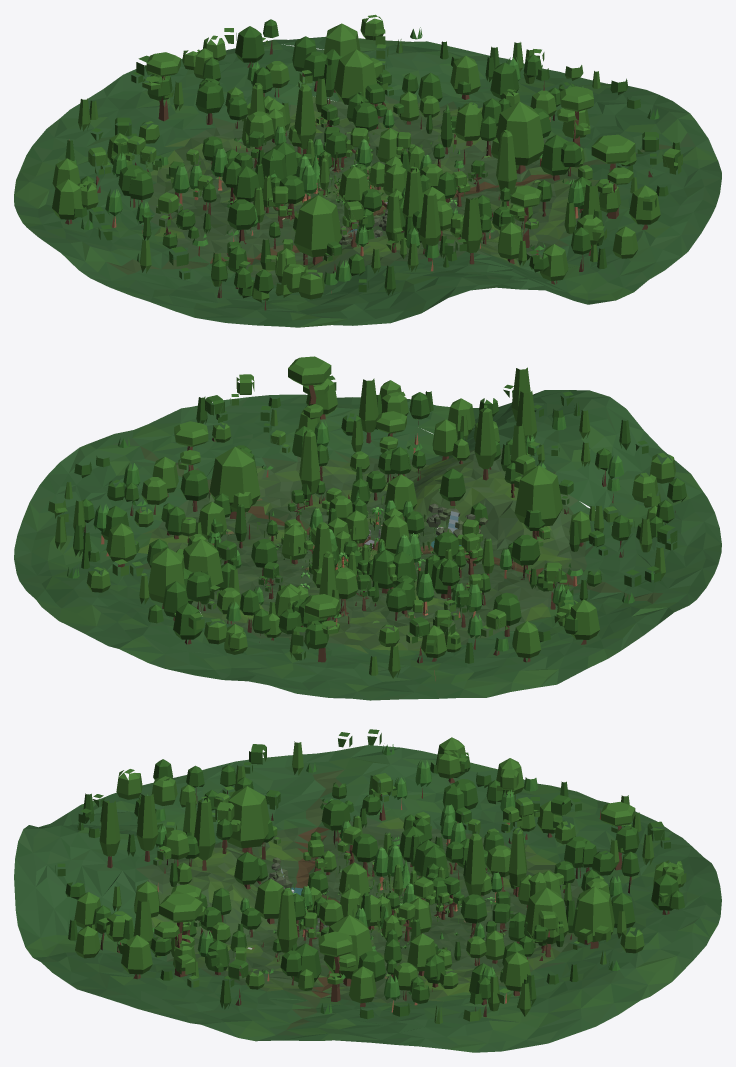
File: world_rainforest_lite.glb
The picture shows the model from 3 angles, top to bottom: view 1: azimuth 30°, elevation 25°; view 2: azimuth 150°, elevation 25°; view 3: azimuth 270°, elevation 25°; orthographic projection.
Visible parts, largest first — view 1: Sector7, Sector6, Sector0, Sector2, Sector1, Sector3, Sector5, Sector4; view 2: Sector1, Sector6, Sector0, Sector7, Sector3, Sector5, Sector4, Sector2; view 3: Sector2, Sector5, Sector4, Sector3, Sector0, Sector1, Sector7, Sector6.
Part boxes in pixels (x1,y1,x2,y2): Sector7: [14, 135, 343, 261]; Sector6: [26, 35, 340, 195]; Sector0: [61, 166, 368, 326]; Sector2: [380, 134, 710, 304]; Sector1: [281, 166, 545, 327]; Sector3: [380, 86, 721, 217]; Sector5: [218, 14, 457, 189]; Sector4: [369, 41, 672, 195]; Sector1: [370, 367, 707, 557]; Sector6: [196, 522, 463, 700]; Sector0: [369, 465, 721, 611]; Sector7: [369, 533, 674, 697]; Sector3: [60, 374, 369, 552]; Sector5: [27, 528, 359, 675]; Sector4: [14, 462, 351, 590]; Sector2: [271, 356, 542, 555]; Sector2: [14, 862, 329, 1003]; Sector5: [383, 868, 721, 1014]; Sector4: [354, 894, 618, 1052]; Sector3: [122, 888, 385, 1042]; Sector0: [112, 732, 378, 903]; Sector1: [14, 769, 349, 905]; Sector7: [350, 729, 609, 901]; Sector6: [383, 795, 721, 914].
Bounding box in the file's own units: 380 × 63.26 × 380.
